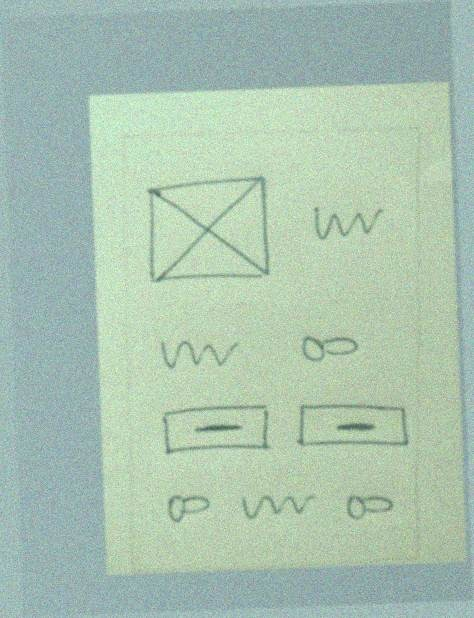button: (291, 392, 411, 455), (160, 396, 274, 462)
image: (142, 172, 276, 293)
switch: (294, 322, 367, 372), (330, 479, 403, 529), (155, 482, 228, 532)
text: (153, 327, 246, 380), (305, 196, 388, 247), (233, 483, 319, 530)
